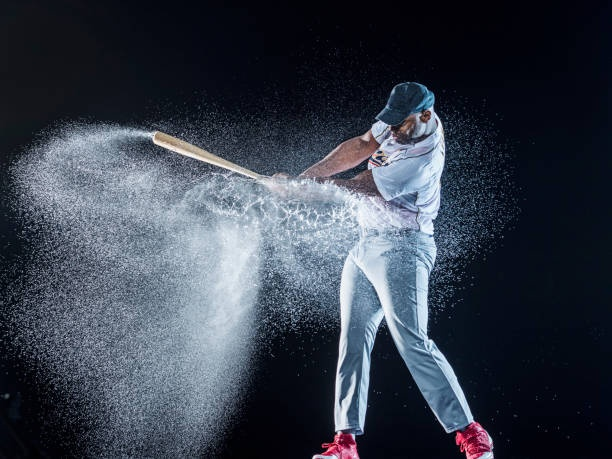bita: (150, 127, 280, 194)
